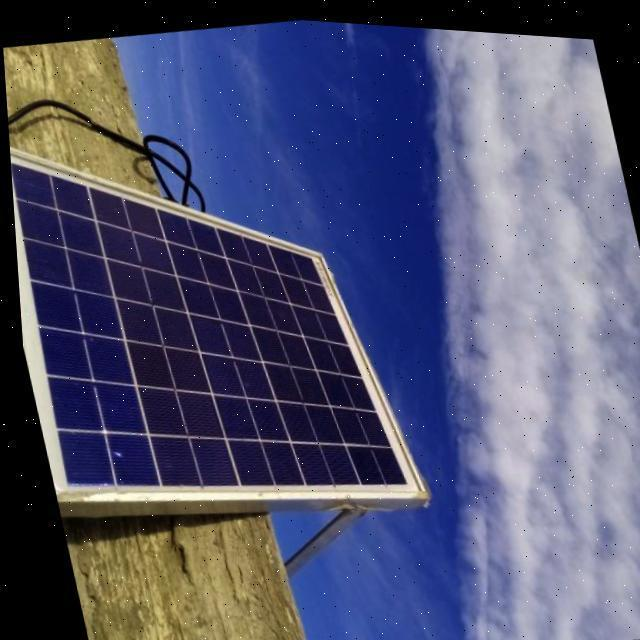Normal Solar Panel: (5, 94, 414, 547)
